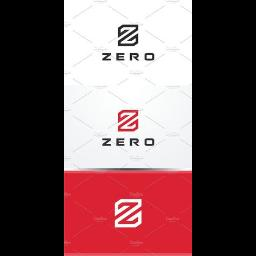e: (114, 52, 126, 62), (115, 137, 125, 147)
o: (143, 137, 155, 147), (144, 52, 154, 62)
r: (129, 52, 139, 62), (130, 137, 138, 147)
z: (112, 22, 146, 50), (116, 108, 140, 132), (100, 52, 112, 62), (101, 138, 113, 148)
